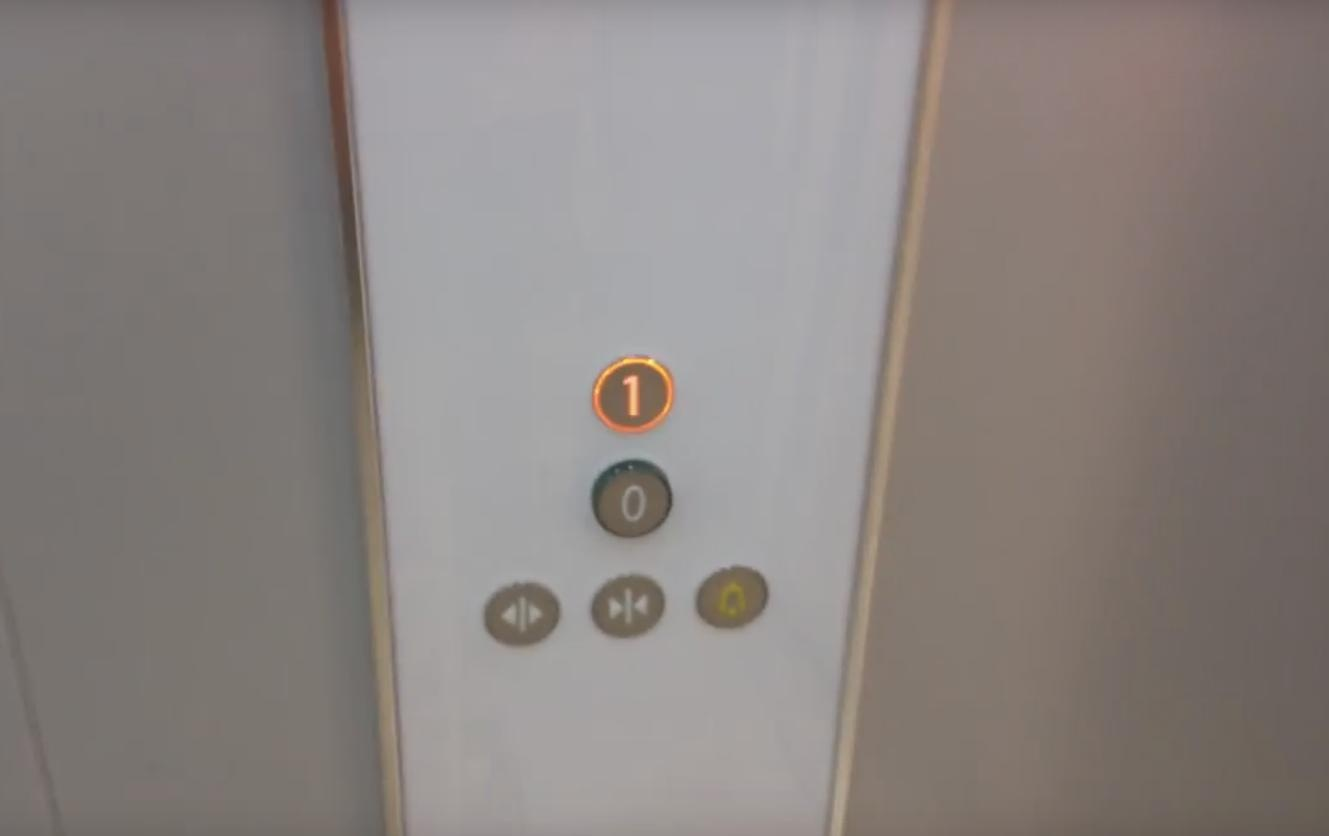0: (584, 453, 676, 544)
1: (588, 351, 681, 439)
alarm: (686, 556, 772, 636)
close: (585, 565, 671, 645)
open: (478, 574, 564, 654)
